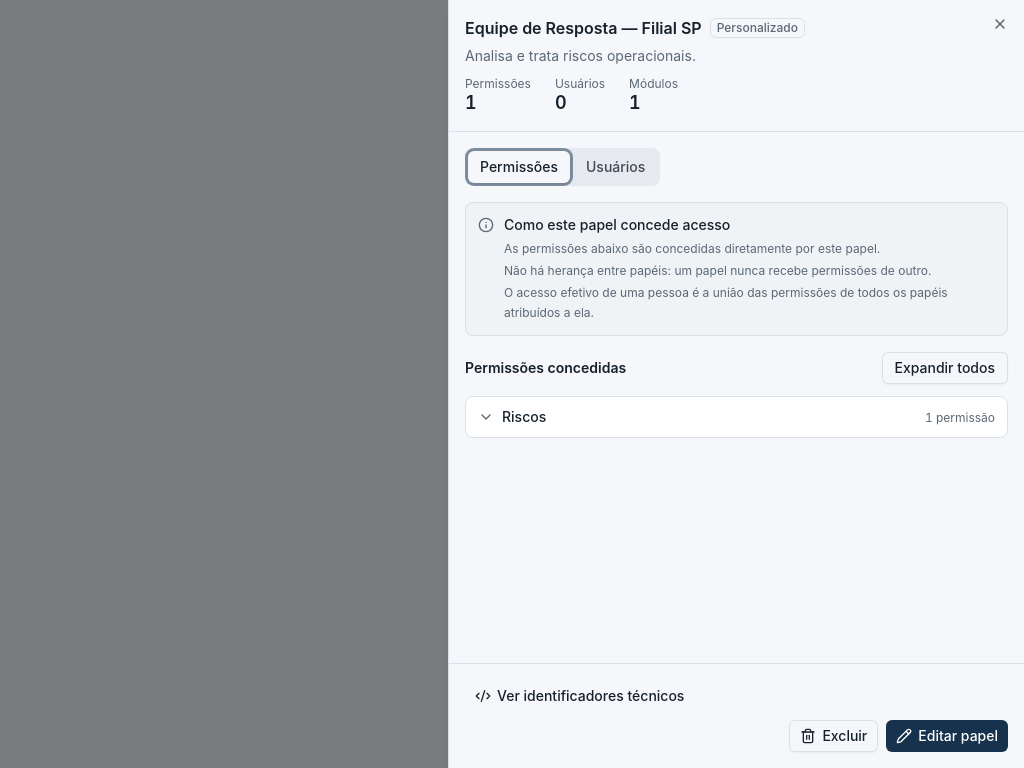
Scenario: RoleDetailPanel — the role name, and the stored name behind it › heads the panel with a custom role name exactly as stored, and says so when asked
Expected: the heading "Equipe de Resposta — Filial SP" is shown, [465,16,702,40]
Click the button "Ver identificadores técnicos": [580, 696] box [465,680,694,712]
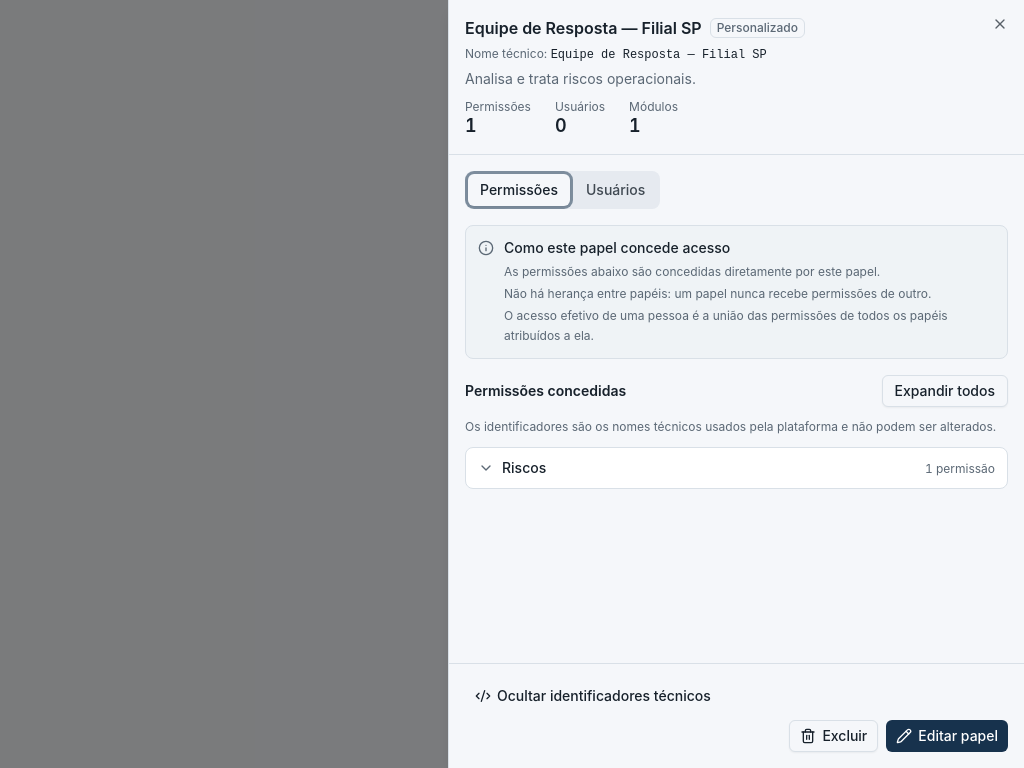
Expected: the text "Nome técnico:" is shown, [465,46,551,61]
